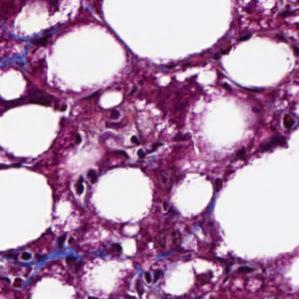inflammation: (14, 234, 73, 274), (127, 133, 165, 161), (135, 263, 164, 288)
